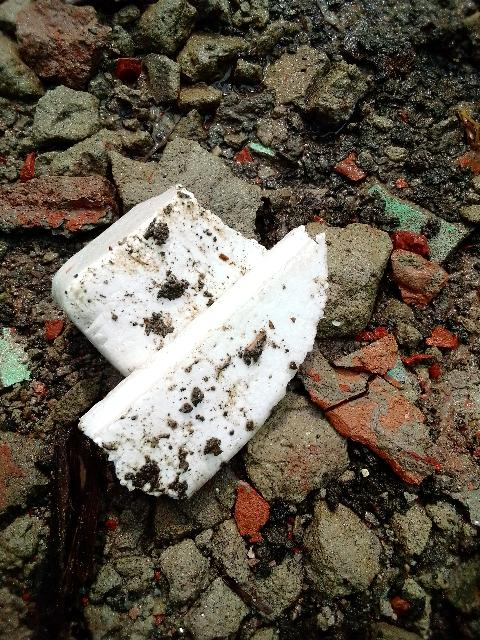cocksheet: (0, 137, 353, 515)
